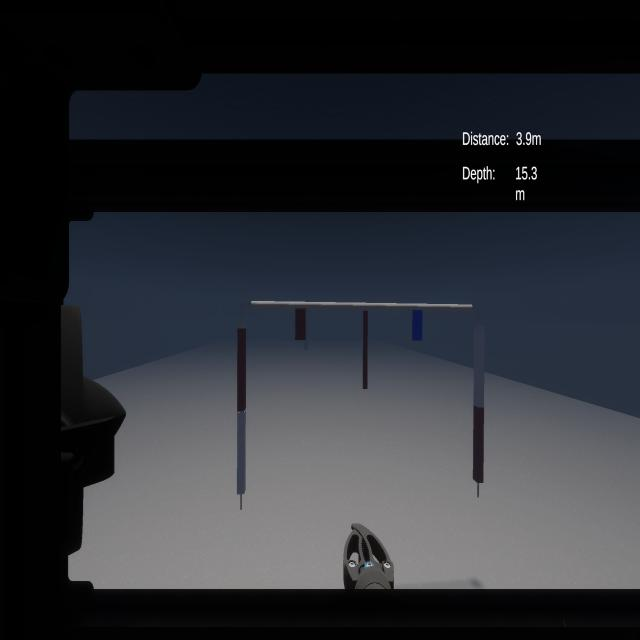Depth: (460, 161, 542, 208)
Distance: (460, 128, 548, 152)
Gate: (223, 280, 513, 520)
